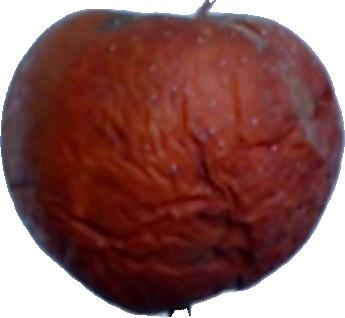Apple Overripe: (3, 13, 342, 312)
